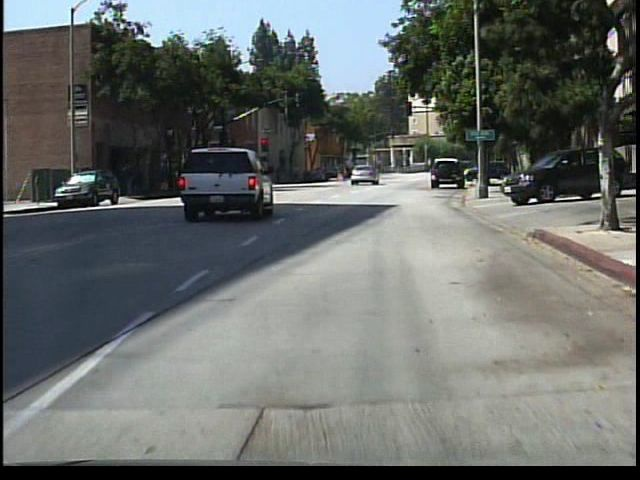person: (488, 156, 502, 182), (335, 165, 348, 185)
